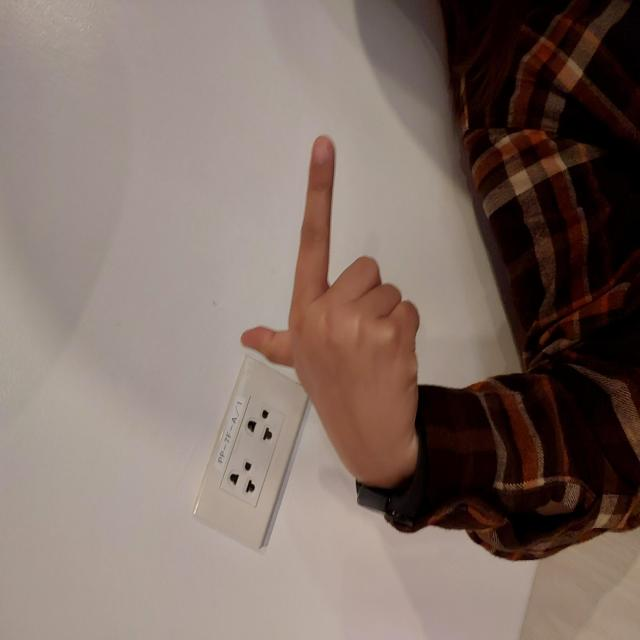G: (143, 235, 511, 426)
